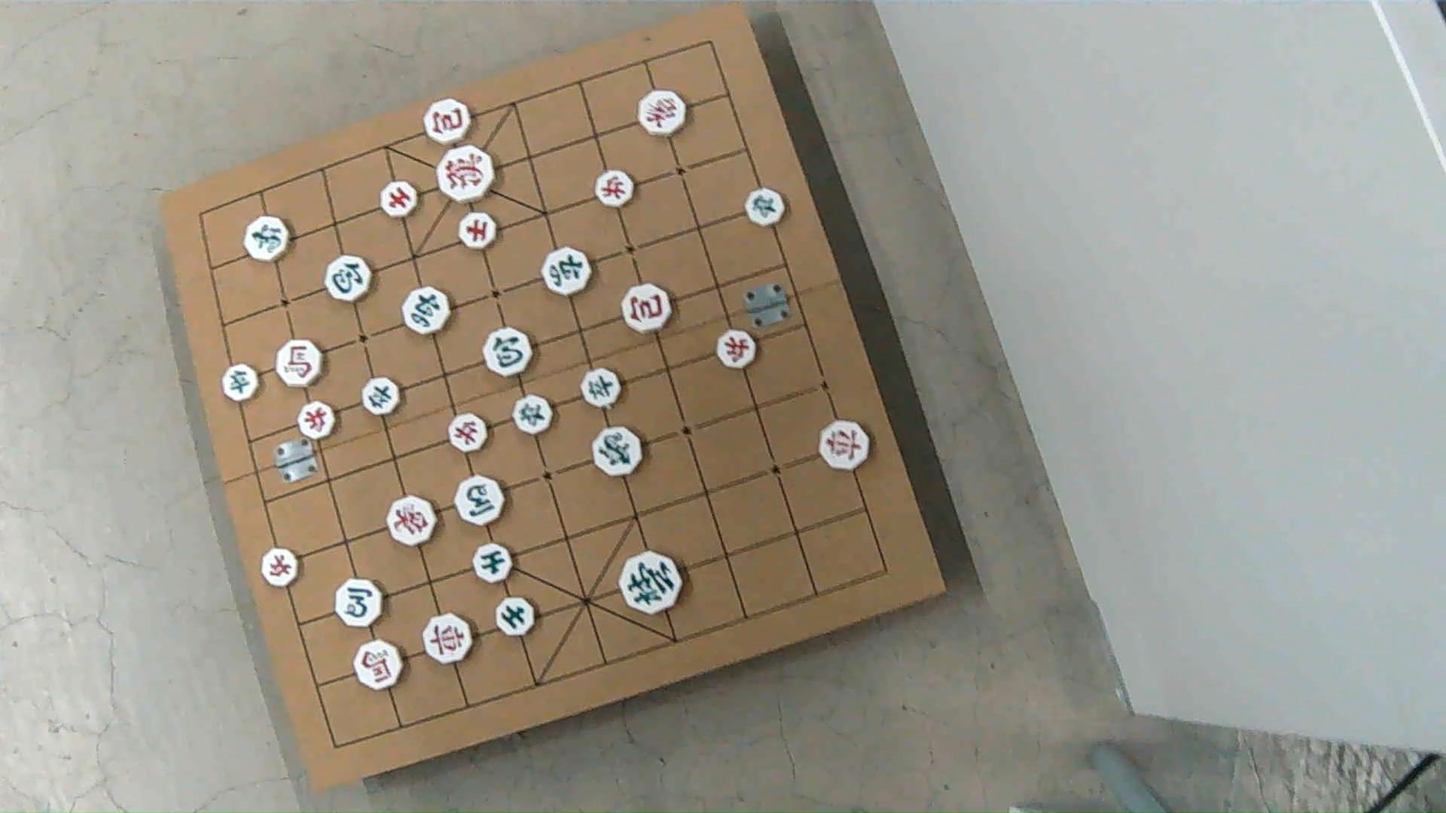cha_green: (541, 248, 591, 297), (401, 288, 449, 337)
cha_red: (820, 420, 875, 470), (426, 613, 476, 662)
jol_green: (580, 367, 622, 406), (747, 187, 789, 225), (513, 394, 552, 434), (364, 378, 402, 416), (222, 364, 261, 400)
jol_red: (717, 330, 759, 368), (449, 415, 489, 453), (259, 550, 297, 589), (597, 170, 636, 208), (299, 401, 337, 439)
ma_green: (456, 477, 505, 525), (335, 579, 383, 626)
ma_red: (276, 339, 325, 387), (353, 641, 402, 688)
po_green: (481, 327, 532, 377), (324, 255, 371, 301)
po_red: (423, 97, 478, 146), (622, 285, 674, 335)
sa_green: (474, 545, 514, 584), (498, 599, 536, 638)
sa_red: (459, 212, 498, 250), (380, 181, 419, 218)
sang_green: (593, 426, 645, 477), (243, 214, 291, 260)
sang_red: (387, 496, 435, 545), (636, 90, 685, 136)
wang_green: (620, 551, 682, 614)
wang_red: (439, 145, 496, 203)
